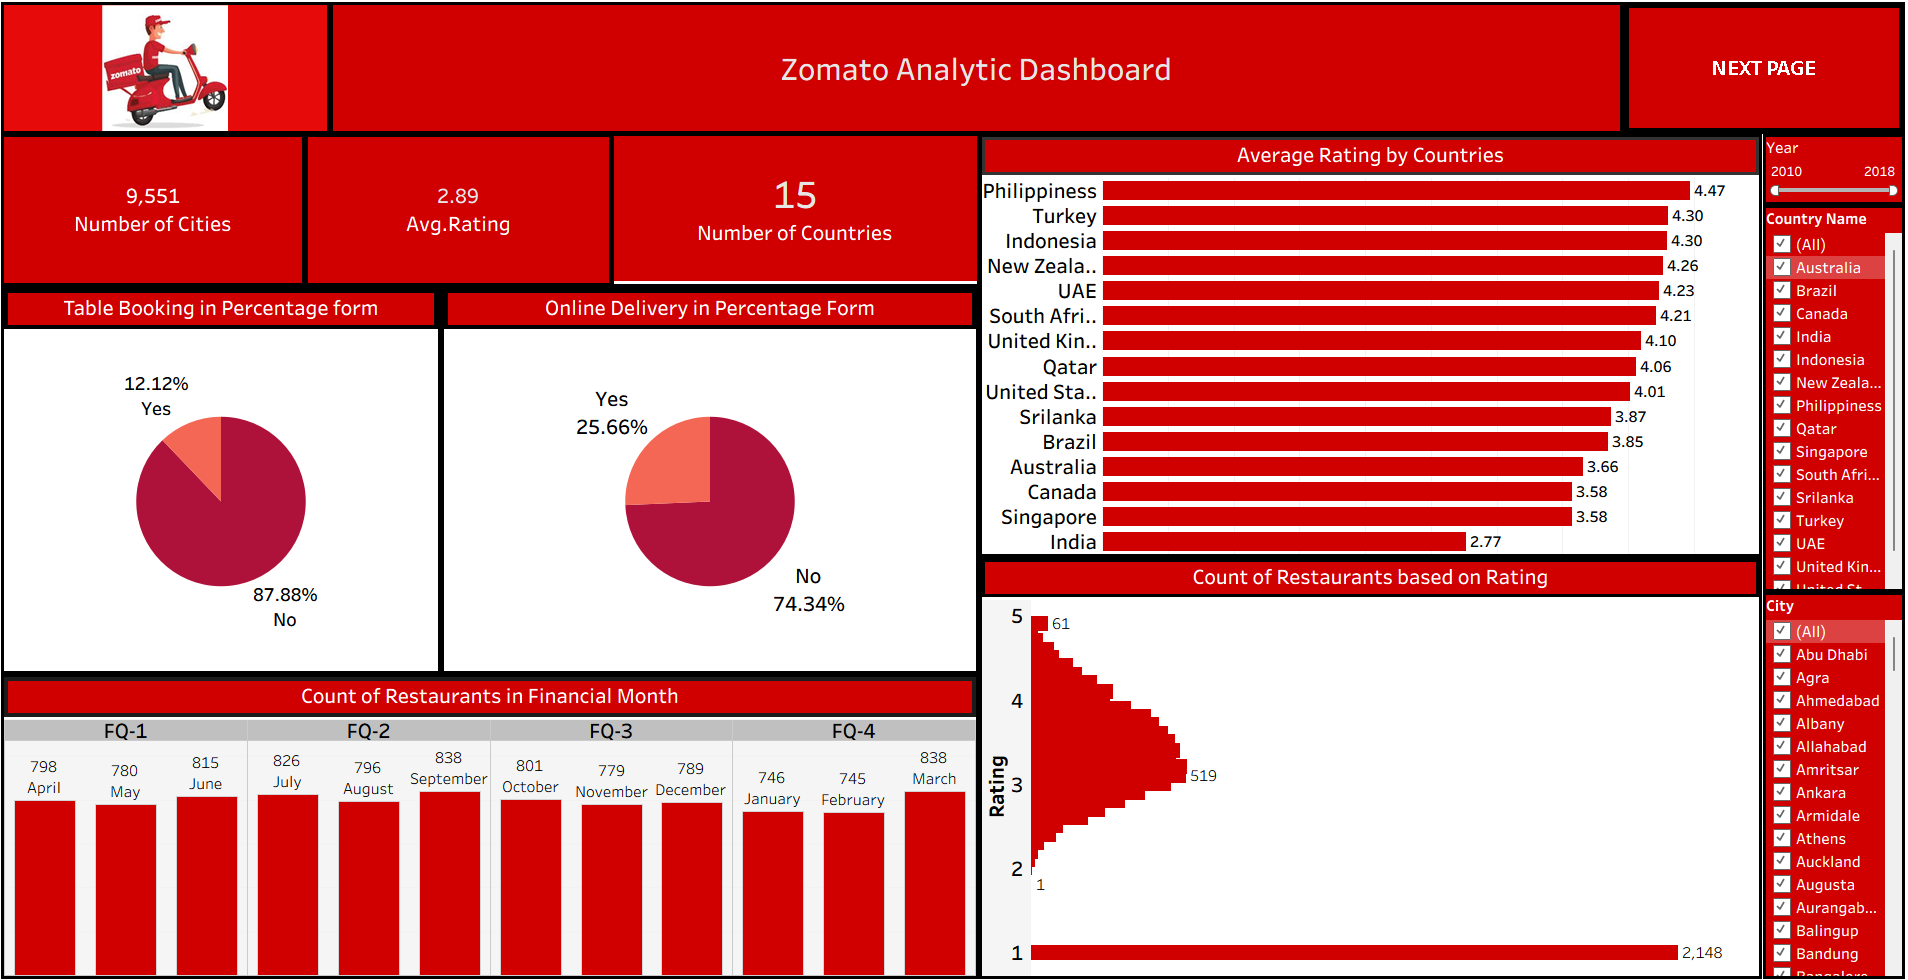

Layout of this report page (visuals, bound fields, positions):
{"tool":"tableau","page":{"name":"Dashboard 1","canvas":[1000,1000],"units":"permille","ordinal":0},"visuals":[{"type":"image","param":"Image/WhatsApp Image 2025-05-26 at 13.48.28.jpeg","box":[4.8,10,171.3,132.2]},{"type":"text","box":[176.1,10,672.4,132.2]},{"type":"dashboard-object","box":[848.5,10,146.7,132.2]},{"type":"worksheet","title":"Kpi 3","mark":"Automatic","box":[4.8,142.2,157.9,152.8]},{"type":"worksheet","title":"Kpi 2","mark":"Automatic","box":[162.7,142.2,159.6,152.8]},{"type":"worksheet","title":"Kpi 1","mark":"Automatic","box":[322.3,142.2,190.7,152.8]},{"type":"worksheet","title":"Sheet 2","mark":"Automatic","rows":["Country Name"],"cols":["Rating"],"box":[513,142.2,406.8,423.9]},{"type":"filter","title":"Sheet 1","param":"[federated.1gakelx1q0lv861fyiybo1odb1no].[none:Year:qk]","box":[919.7,142.2,75.4,88.6]},{"type":"filter","title":"Kpi 1","param":"[federated.1gakelx1q0lv861fyiybo1odb1no].[none:Country Name:nk]","box":[919.7,230.8,75.4,379.6]},{"type":"worksheet","title":"Sheet 7","mark":"Pie","box":[4.8,295,228.6,389.5]},{"type":"worksheet","title":"Sheet 8","mark":"Pie","box":[233.4,295,279.6,389.5]},{"type":"worksheet","title":"Sheet 5","mark":"Bar","rows":["Rating"],"cols":["RestaurantID"],"box":[513,566.1,406.8,423.9]},{"type":"filter","title":"Kpi 1","param":"[federated.1gakelx1q0lv861fyiybo1odb1no].[none:City:nk]","box":[919.7,610.4,75.4,379.6]},{"type":"worksheet","title":"Sheet 1","mark":"Automatic","rows":["RestaurantID"],"cols":["FinancialQuarter","FinancialMonth"],"box":[4.8,684.6,508.2,305.5]}]}

Visuals, with their boxes on the dashboard's canvas, which has no fixed pixel size, in thousandths of its width and height (x1, y1, x2, y2). These are canvas units, not pixel positions in the 1908x980 screenshot, which may show the page scaled, cropped or inside an application window:
image: {"x1": 5, "y1": 10, "x2": 176, "y2": 142}
text: {"x1": 176, "y1": 10, "x2": 848, "y2": 142}
dashboard-object: {"x1": 848, "y1": 10, "x2": 995, "y2": 142}
"Kpi 3" worksheet: {"x1": 5, "y1": 142, "x2": 163, "y2": 295}
"Kpi 2" worksheet: {"x1": 163, "y1": 142, "x2": 322, "y2": 295}
"Kpi 1" worksheet: {"x1": 322, "y1": 142, "x2": 513, "y2": 295}
"Sheet 2" worksheet: {"x1": 513, "y1": 142, "x2": 920, "y2": 566}
"Sheet 1" filter: {"x1": 920, "y1": 142, "x2": 995, "y2": 231}
"Kpi 1" filter: {"x1": 920, "y1": 231, "x2": 995, "y2": 610}
"Sheet 7" worksheet (Pie marks): {"x1": 5, "y1": 295, "x2": 233, "y2": 684}
"Sheet 8" worksheet (Pie marks): {"x1": 233, "y1": 295, "x2": 513, "y2": 684}
"Sheet 5" worksheet (Bar marks): {"x1": 513, "y1": 566, "x2": 920, "y2": 990}
"Kpi 1" filter: {"x1": 920, "y1": 610, "x2": 995, "y2": 990}
"Sheet 1" worksheet: {"x1": 5, "y1": 685, "x2": 513, "y2": 990}
